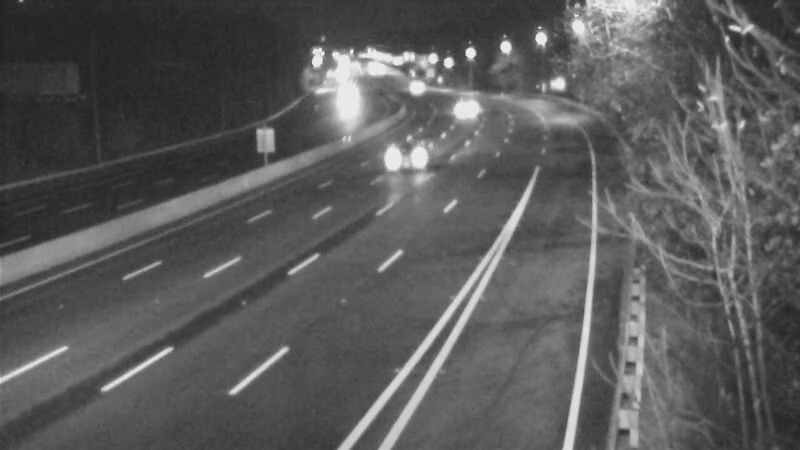vehicle: (370, 115, 450, 195), (387, 59, 437, 109), (440, 84, 490, 134), (316, 79, 366, 129)
